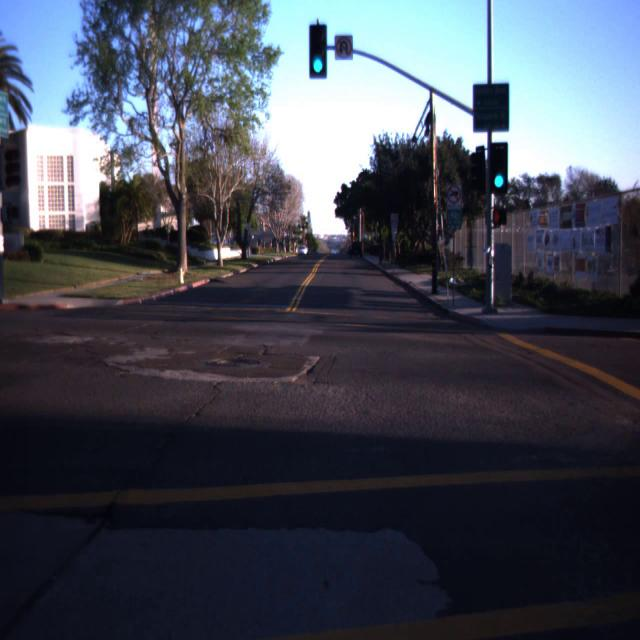yesil: (309, 20, 327, 79), (490, 142, 508, 193)
